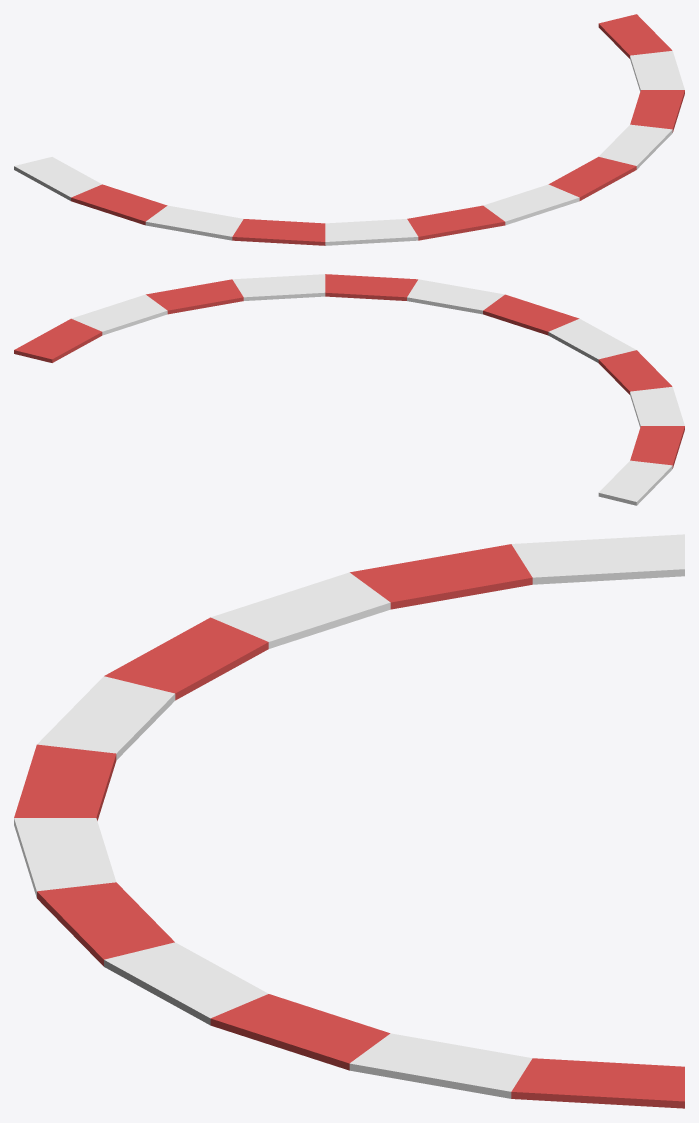
The model's file is roadHalfCircleBorder.fbx.
3 views of the same model, one above another, from view 1: azimuth 30°, elevation 25°; view 2: azimuth 150°, elevation 25°; view 3: azimuth 270°, elevation 25° (orthographic). The views are drawn at different scales.
Visible parts, largest first — view 1: roadHalfCircleBorder; view 2: roadHalfCircleBorder; view 3: roadHalfCircleBorder.
Boxes of the visible parts, bbox=[...] form: roadHalfCircleBorder: bbox=[14, 14, 684, 245]; roadHalfCircleBorder: bbox=[14, 274, 684, 505]; roadHalfCircleBorder: bbox=[14, 534, 684, 1108].
Size of the model in its own units: 34.2 by 0.2 by 17.1.
